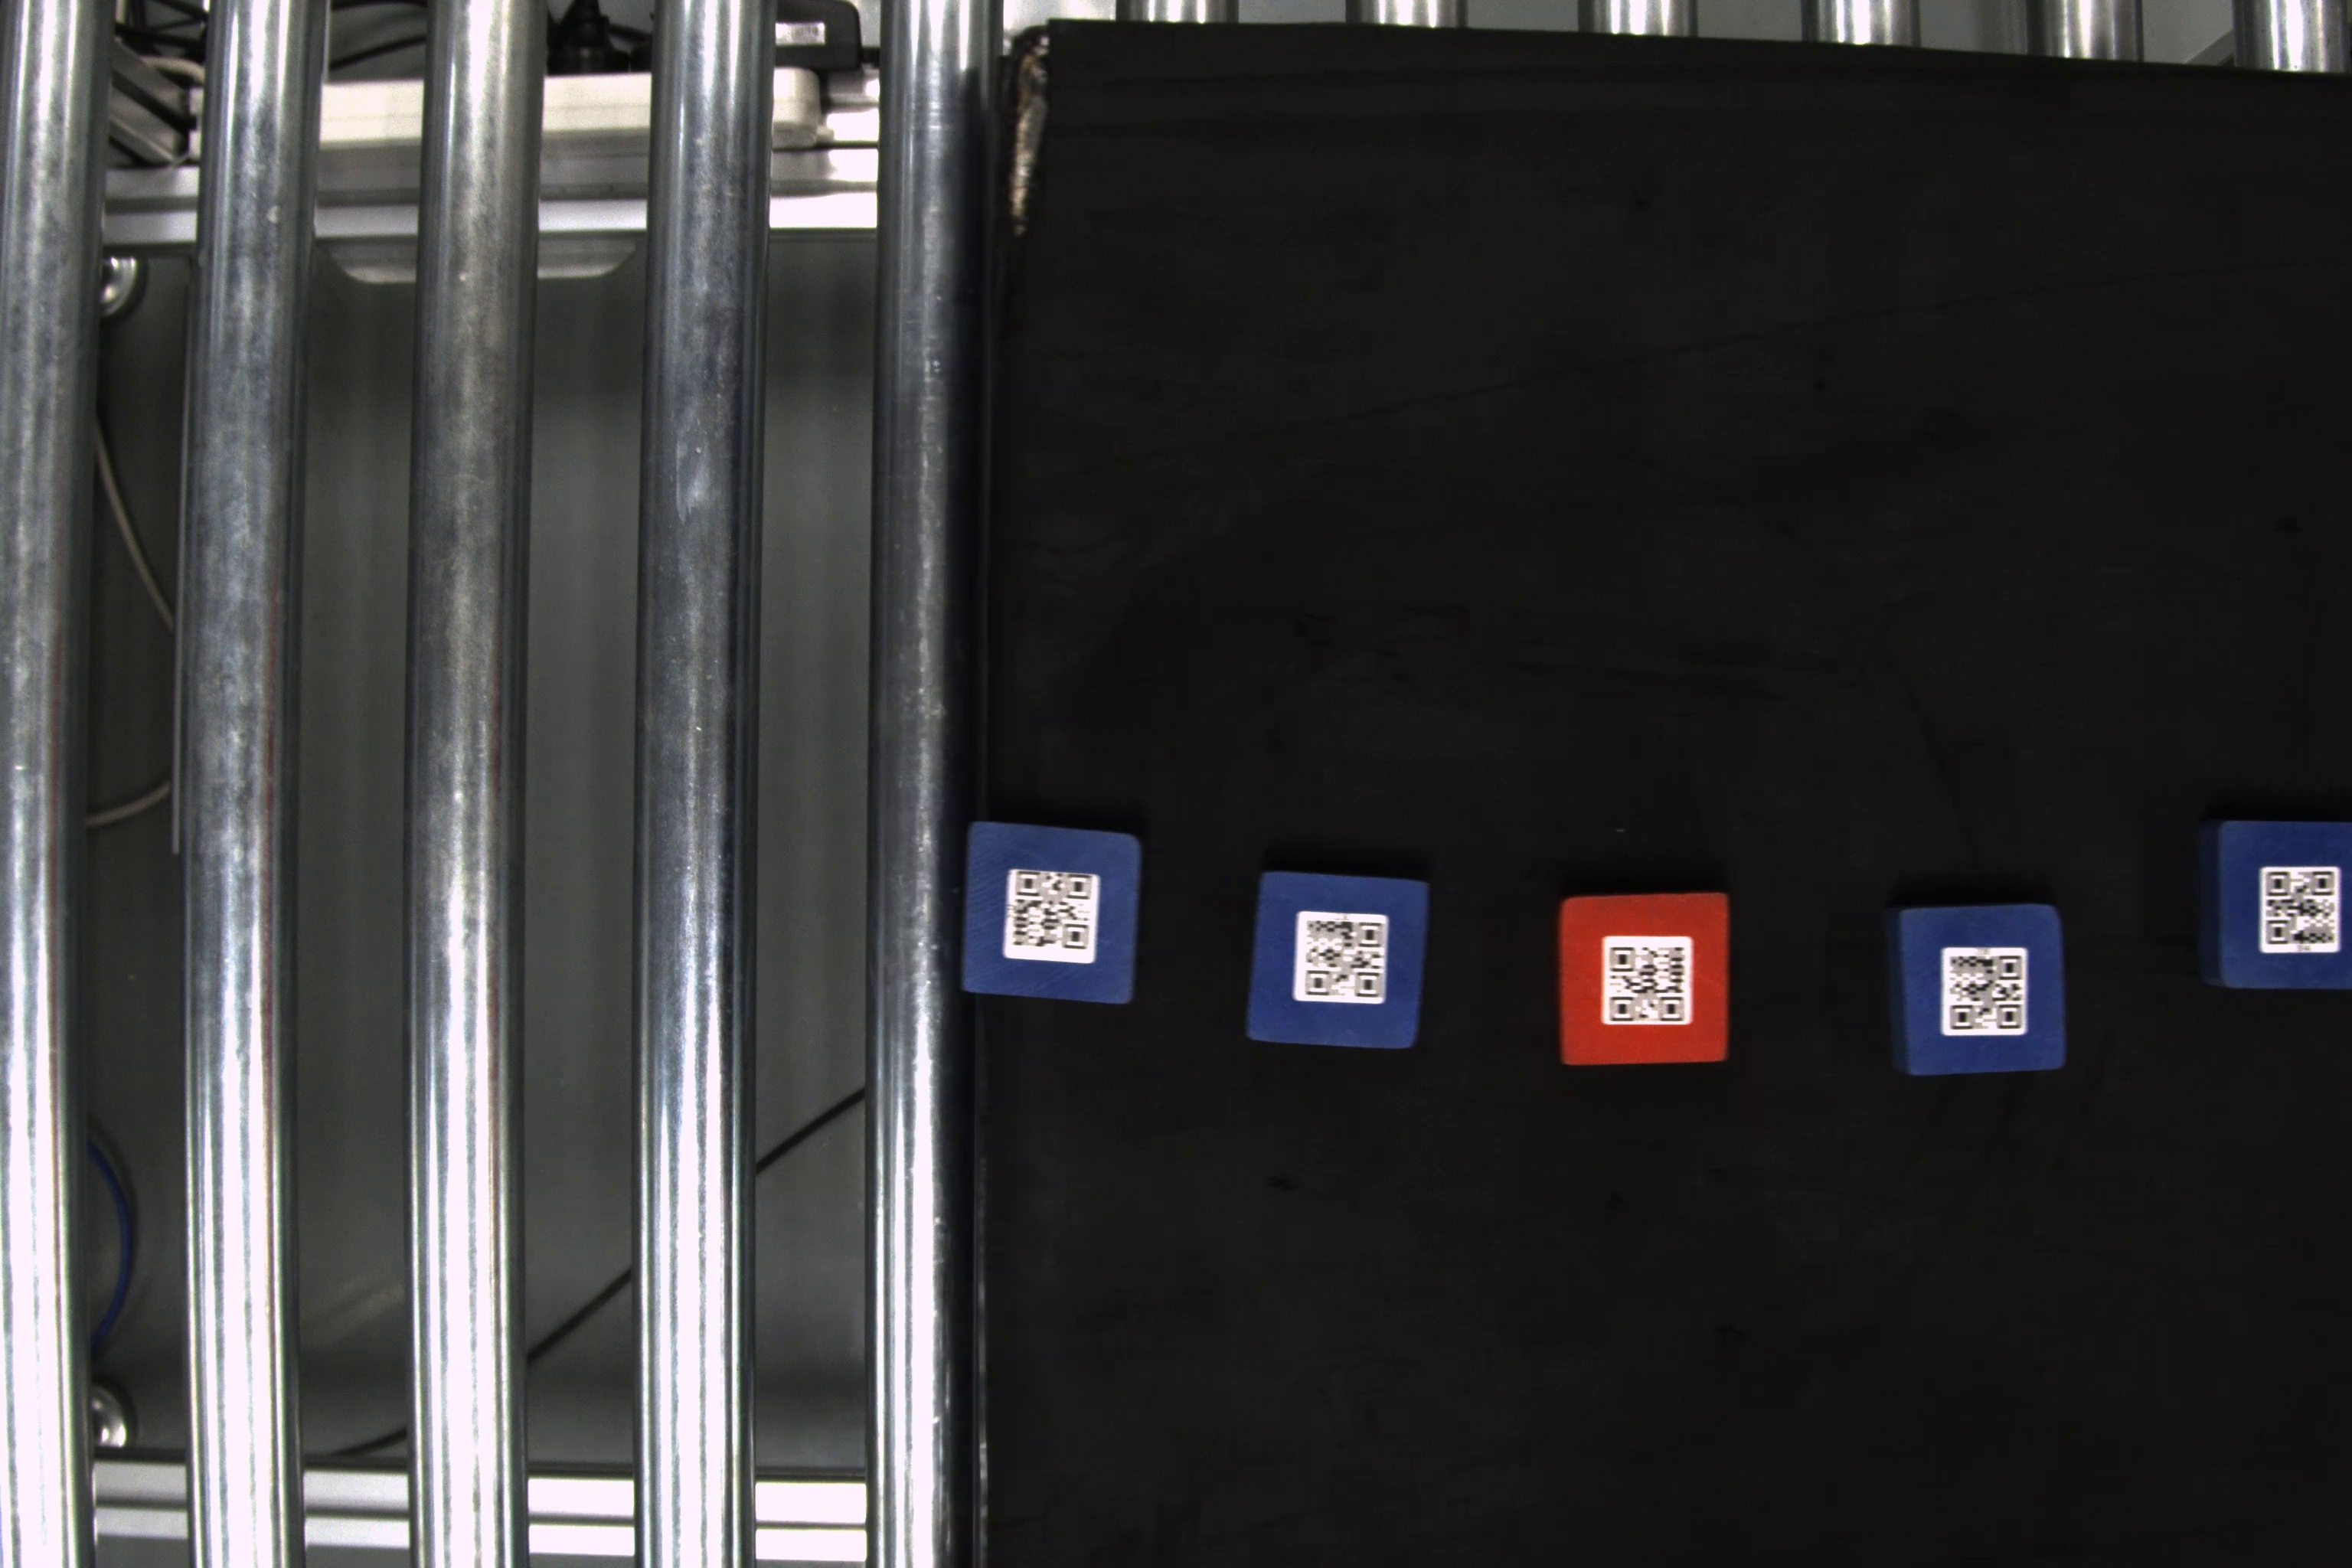wood: (961, 814, 1143, 1006), (1242, 868, 1430, 1050), (1883, 903, 2072, 1078), (1556, 889, 1736, 1069), (2198, 815, 2348, 997)
